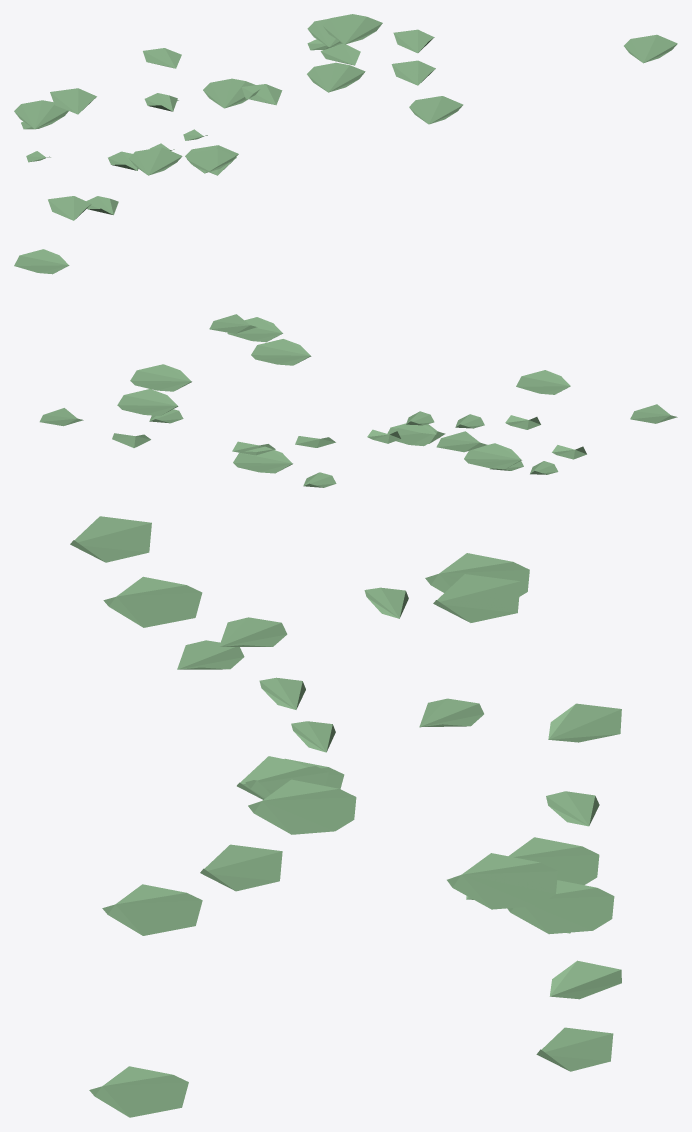
The model's file is xiyuan-vegetation-02-medium.glb.
3 views of the same model, one above another, from view 1: azimuth 30°, elevation 25°; view 2: azimuth 150°, elevation 25°; view 3: azimuth 270°, elevation 25° (orthographic). The views are drawn at different scales.
Parts seen in each view (by area): view 1: scalloped lotus leaves.001; view 2: scalloped lotus leaves.001; view 3: scalloped lotus leaves.001.
Boxes of the visible parts, box(x1,y1,x2,y2) form: scalloped lotus leaves.001: box(14, 14, 677, 220); scalloped lotus leaves.001: box(14, 249, 677, 487); scalloped lotus leaves.001: box(70, 516, 621, 1117).
Size of the model in its own units: 11.15 by 0.9841 by 4.21.
